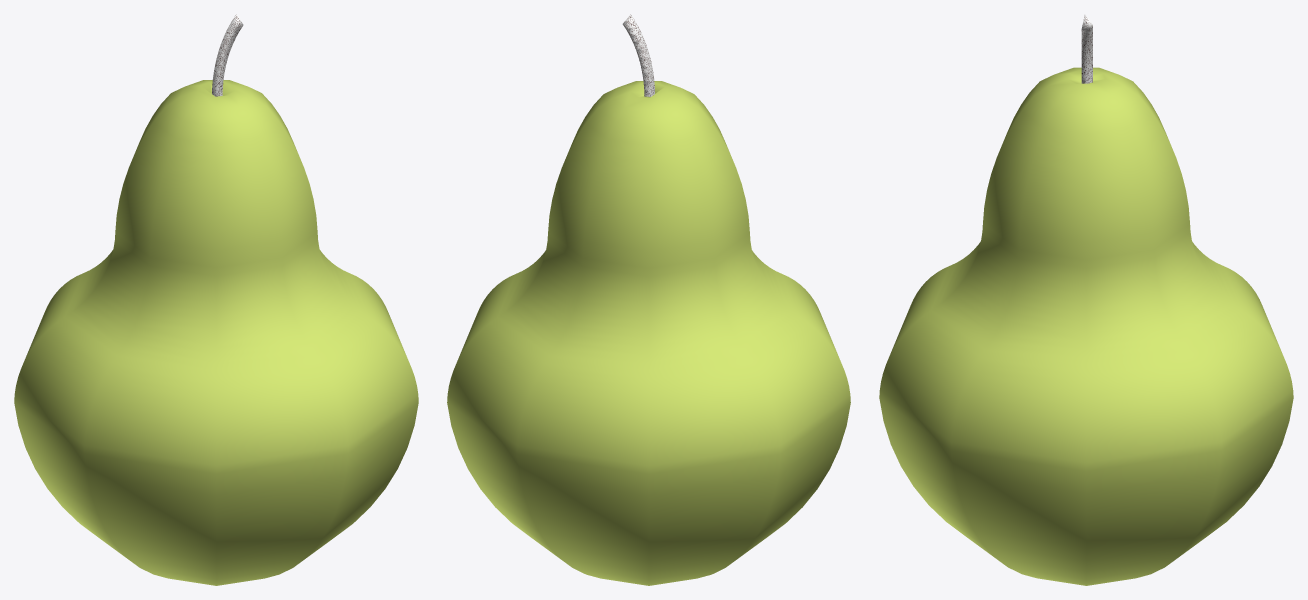
The model's file is pear2.dae.
3 renders of one model, left to right at view 1: azimuth 30°, elevation 25°; view 2: azimuth 150°, elevation 25°; view 3: azimuth 270°, elevation 25°, orthographic. The views are drawn at different scales.
Visible parts, largest first — view 1: SketchUp (×2); view 2: SketchUp (×2); view 3: SketchUp (×2).
Boxes of the visible parts, x1,y1,x2,y2 form: SketchUp (×2): (14,14,418,585); SketchUp (×2): (447,14,850,585); SketchUp (×2): (879,14,1293,585).
Size of the model in its own units: 3.88 by 3.94 by 5.86.
